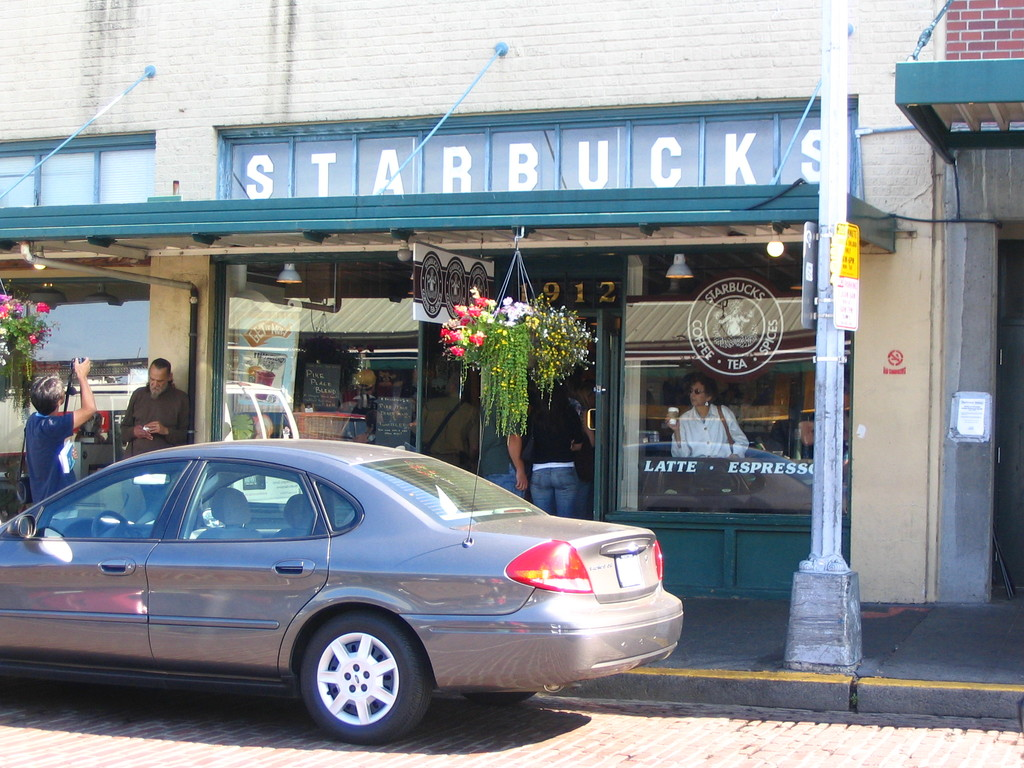Car: (0, 405, 696, 713), (5, 368, 314, 458)
